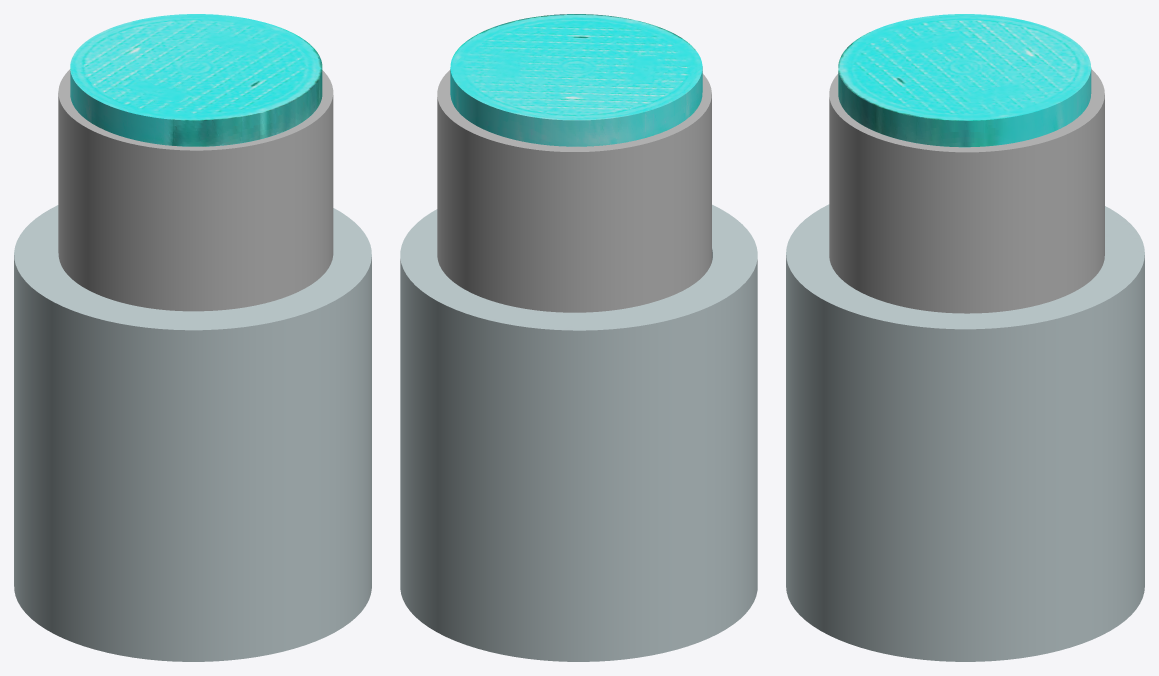
Rendered from manhole.glb.
3 views of the same model, side by side, from view 1: azimuth 30°, elevation 25°; view 2: azimuth 150°, elevation 25°; view 3: azimuth 270°, elevation 25° (orthographic).
Visible parts, largest first — view 1: mesh_id107, mesh_id97, mesh_id87; view 2: mesh_id107, mesh_id97, mesh_id87; view 3: mesh_id107, mesh_id97, mesh_id87.
Part boxes in pixels (x1,y1,x2,y2): mesh_id107: [14, 205, 371, 661]; mesh_id97: [58, 69, 333, 311]; mesh_id87: [70, 14, 322, 146]; mesh_id107: [400, 204, 757, 661]; mesh_id97: [437, 70, 711, 312]; mesh_id87: [450, 14, 702, 146]; mesh_id107: [786, 204, 1144, 661]; mesh_id97: [829, 69, 1104, 313]; mesh_id87: [838, 14, 1091, 147].
Size of the model in its own units: 0.5992 by 0.9581 by 0.5992.
Materials: 3 (3 with a texture image).
